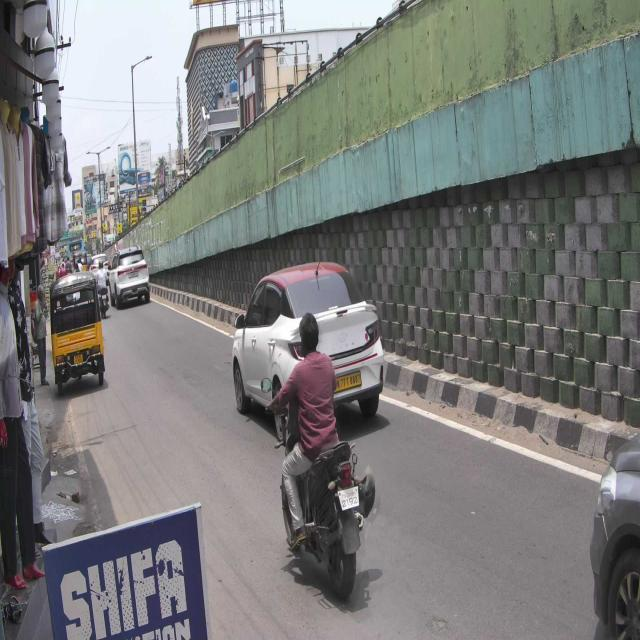single_rider: (263, 308, 370, 600)
